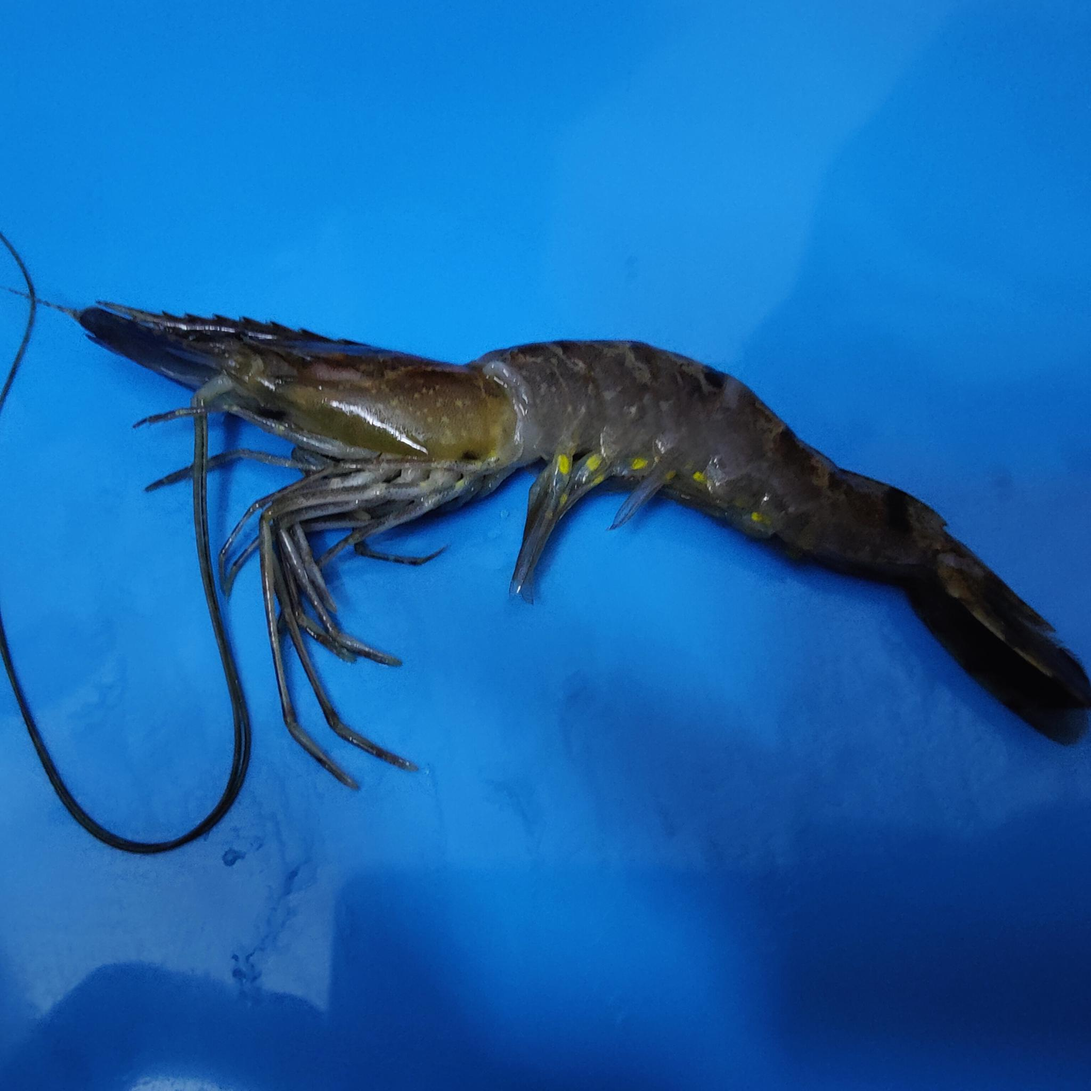whitespot: (327, 377, 487, 448), (514, 362, 562, 420)
